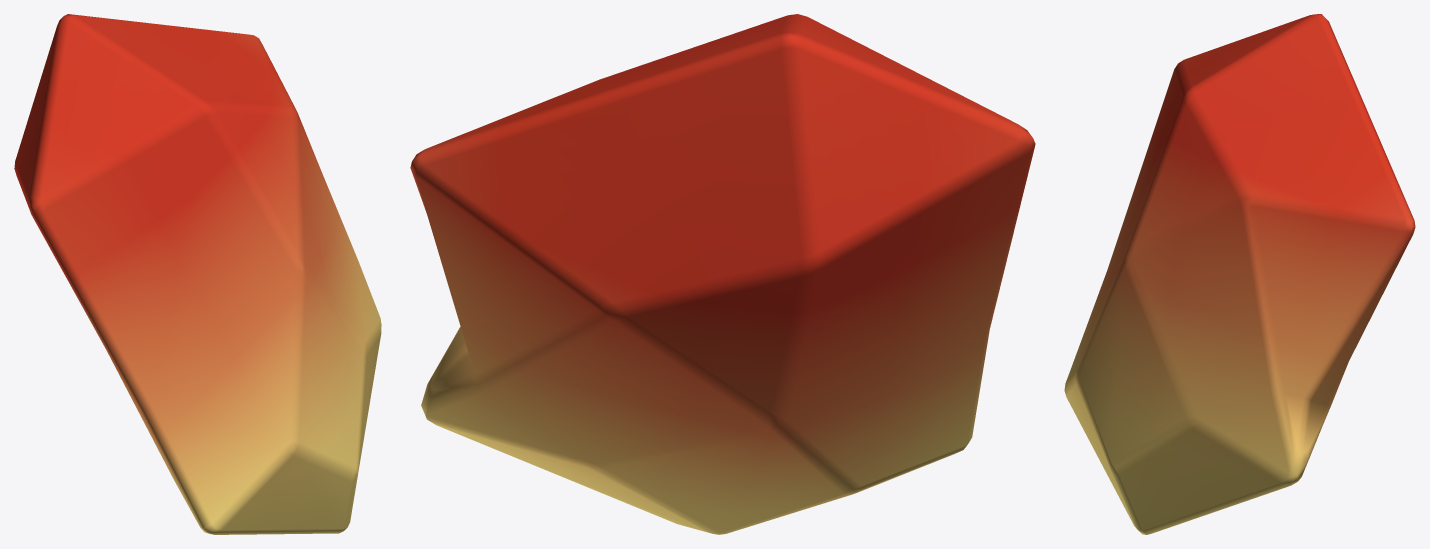
3 renders of one model, left to right at view 1: azimuth 30°, elevation 25°; view 2: azimuth 150°, elevation 25°; view 3: azimuth 270°, elevation 25°, orthographic. The views are drawn at different scales.
Visible parts, largest first — view 1: model_1.134; view 2: model_1.134; view 3: model_1.134.
Part boxes in pixels (x1,y1,x2,y2): model_1.134: (14, 14, 381, 534); model_1.134: (410, 14, 1035, 534); model_1.134: (1064, 14, 1415, 534).
Size of the model in its own units: 3.21 by 3.68 by 2.65.
